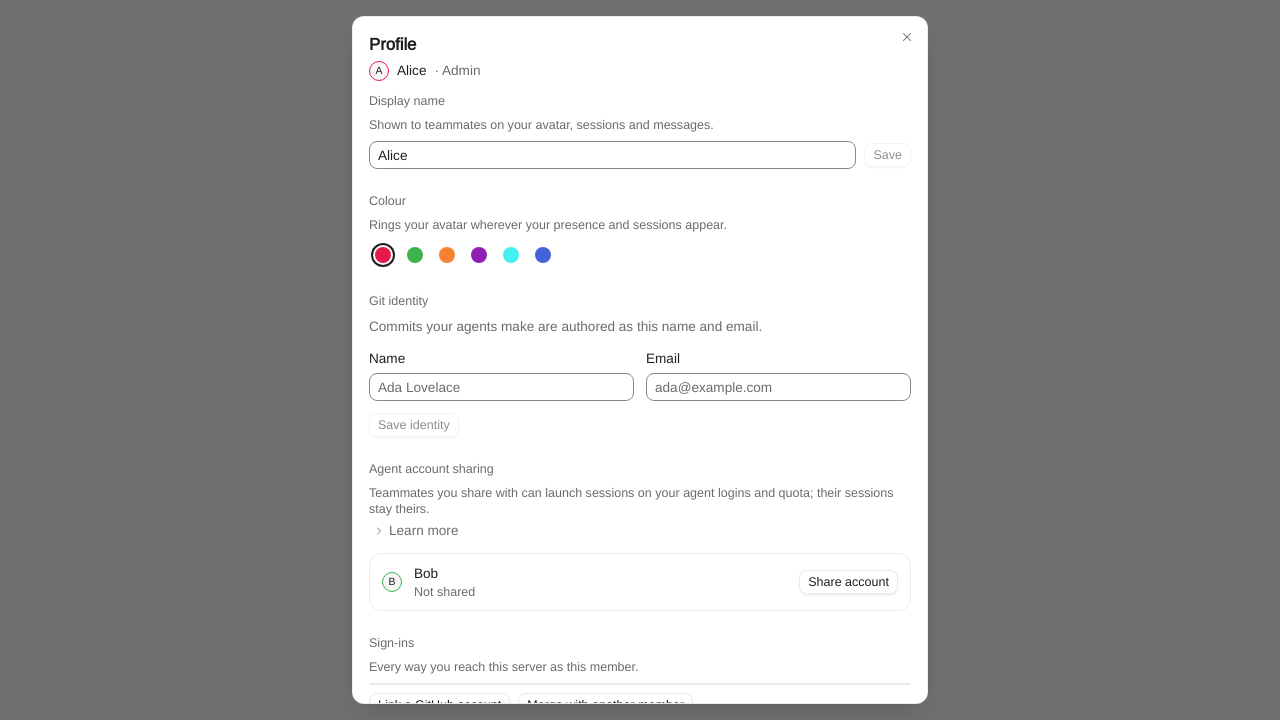
Test: profile dialog › after a first share › shows the stop error in the confirmation
Click the 4th button named "Share account" at (849, 582), box [799,570,898,594]
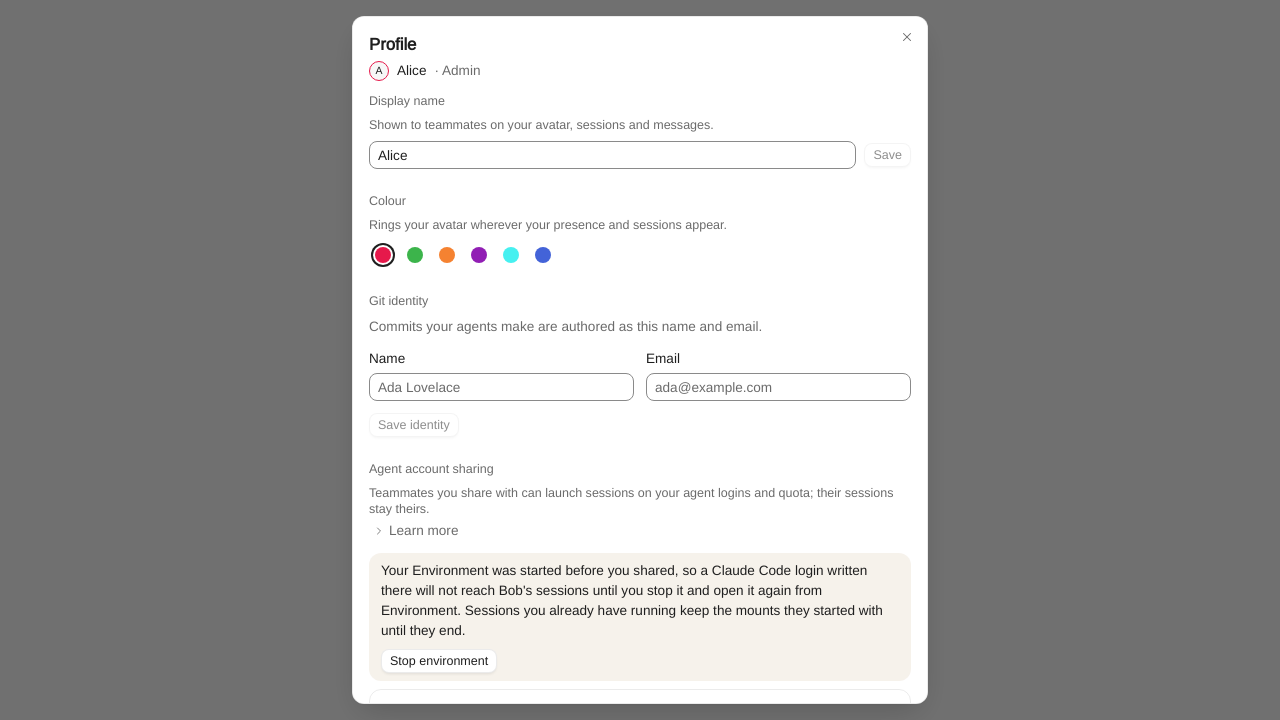
Click the 4th button named "Stop environment" at (439, 661), box [381,649,497,673]
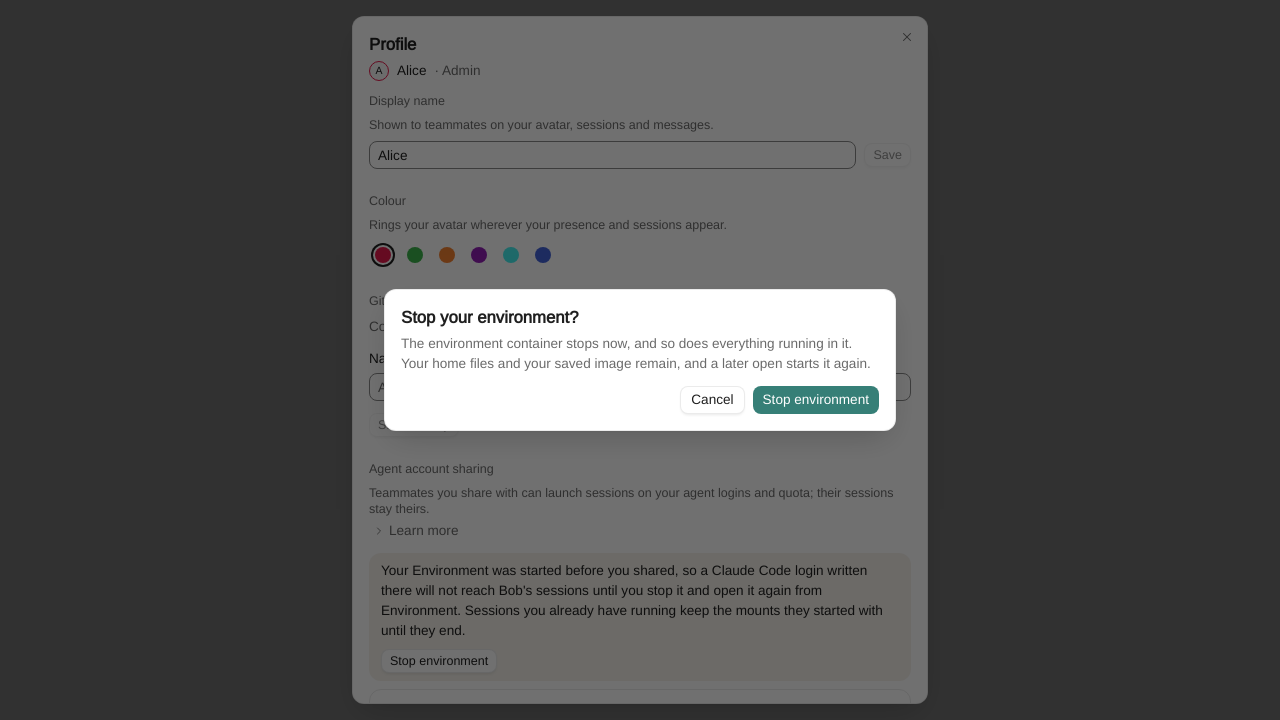
Click the 2nd button named "Stop environment" at (816, 400), box [753,386,879,414]
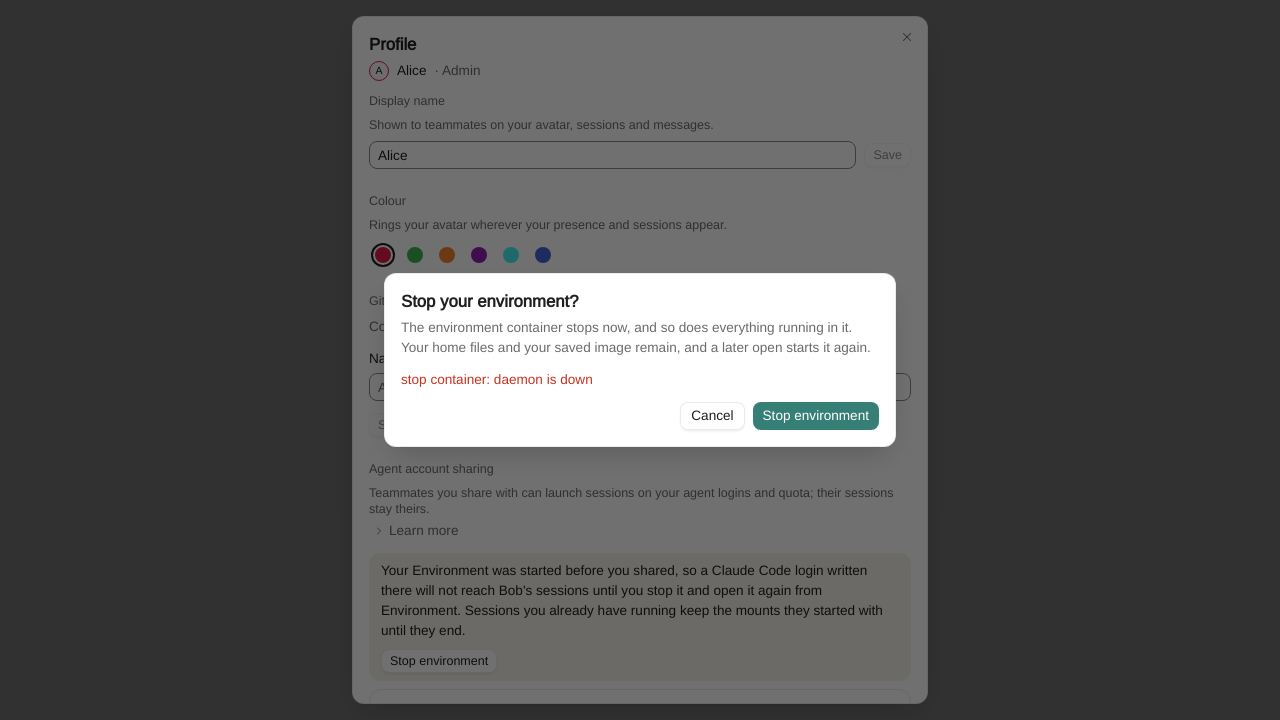
Expected: the text "stop container: daemon is down" is shown, [401,371,593,388]
